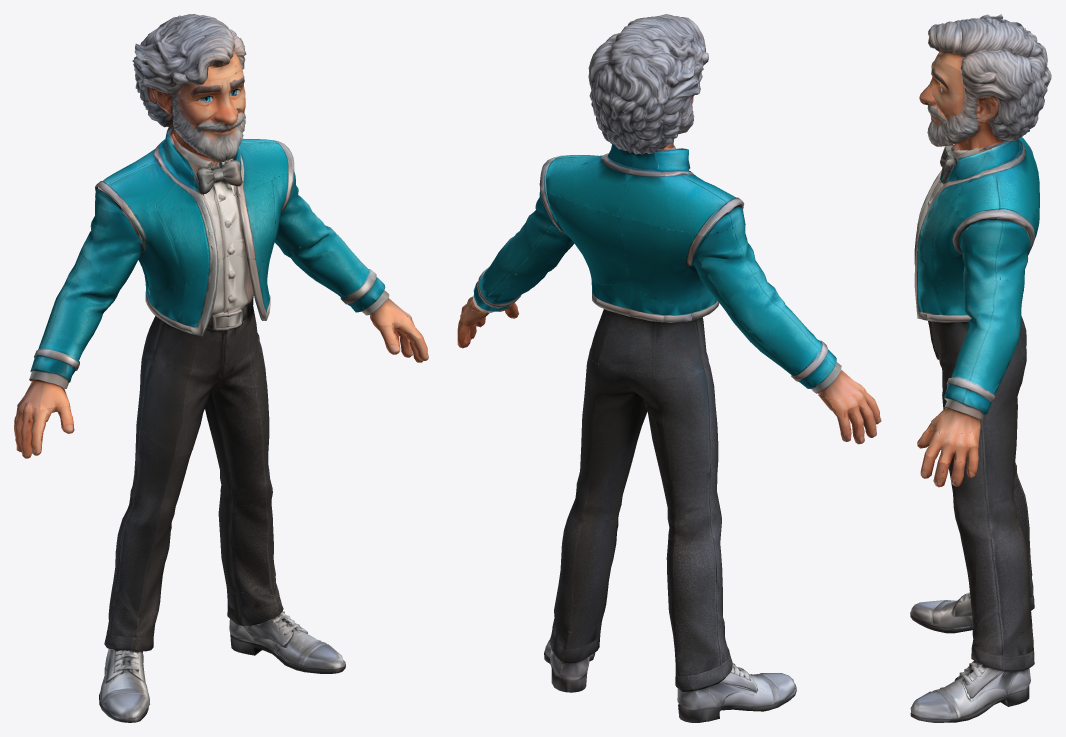
3 views of the same model, side by side, from view 1: azimuth 30°, elevation 25°; view 2: azimuth 150°, elevation 25°; view 3: azimuth 270°, elevation 25° (orthographic). The views are drawn at different scales.
Visible parts, largest first — view 1: tripo_node_85ca6f12-c911-4053-8fa2-85df32fdc371; view 2: tripo_node_85ca6f12-c911-4053-8fa2-85df32fdc371; view 3: tripo_node_85ca6f12-c911-4053-8fa2-85df32fdc371.
Boxes of the visible parts, x1,y1,x2,y2 form: tripo_node_85ca6f12-c911-4053-8fa2-85df32fdc371: [14, 14, 428, 722]; tripo_node_85ca6f12-c911-4053-8fa2-85df32fdc371: [457, 14, 881, 722]; tripo_node_85ca6f12-c911-4053-8fa2-85df32fdc371: [910, 14, 1051, 722].
Size of the model in its own units: 0.6311 by 0.98 by 0.1939.
1 material, 1 textured.
